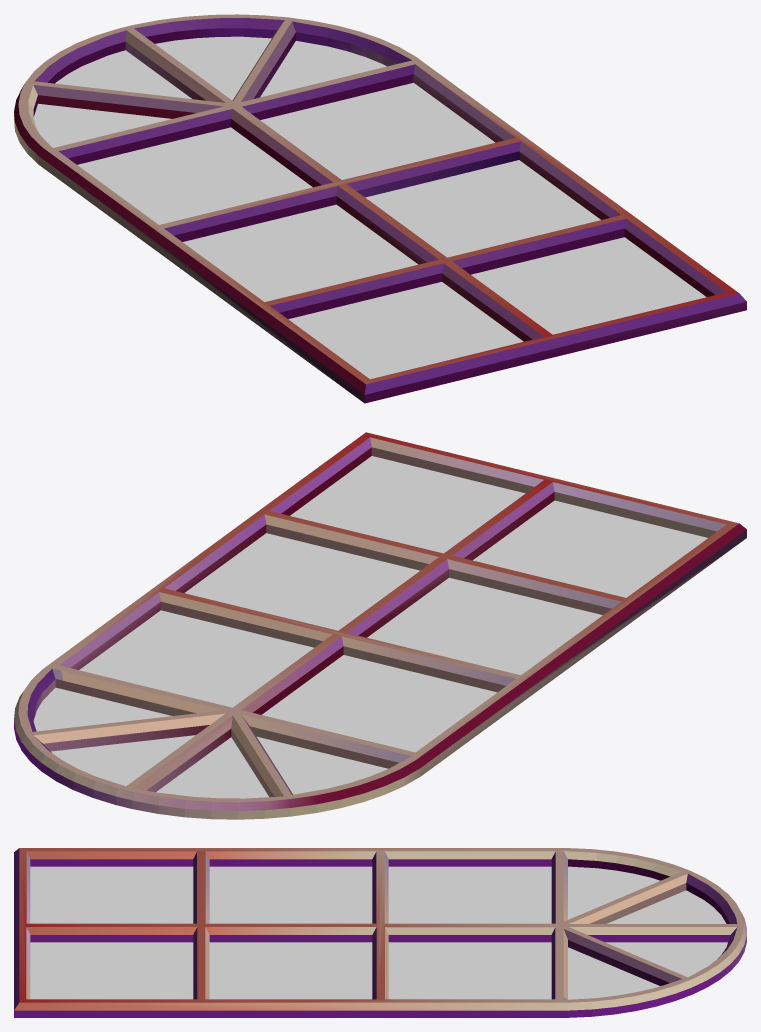
The model's file is vc_frame_ornate_001.fbx.
3 views of the same model, one above another, from view 1: azimuth 30°, elevation 25°; view 2: azimuth 150°, elevation 25°; view 3: azimuth 270°, elevation 25° (orthographic). The views are drawn at different scales.
Parts seen in each view (by area): view 1: frame_ornate_glass, frame_ornate; view 2: frame_ornate_glass, frame_ornate; view 3: frame_ornate_glass, frame_ornate.
Part boxes in pixels (x1,y1,x2,y2): frame_ornate_glass: (33,36,706,379); frame_ornate: (14,14,746,403); frame_ornate_glass: (33,456,707,798); frame_ornate: (14,432,746,819); frame_ornate_glass: (30,866,727,999); frame_ornate: (14,848,746,1017).
Bounding box in the file's own units: 70.22 × 2.76 × 137.
